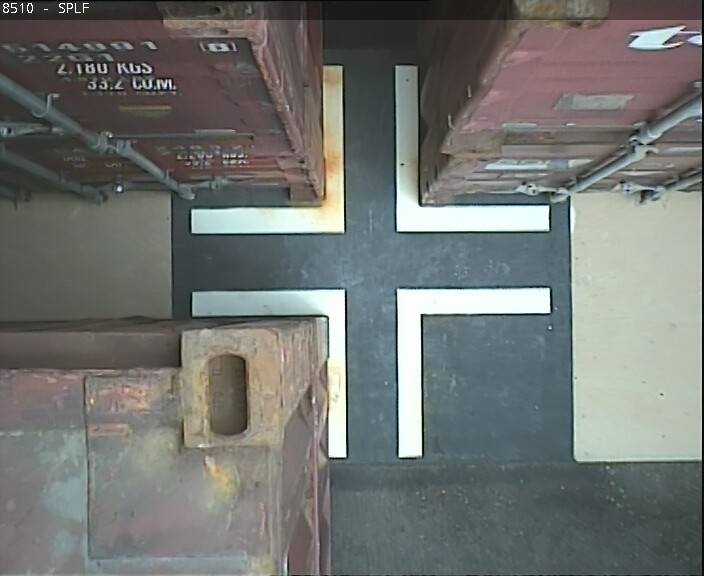groundmarker_1: (190, 69, 552, 235), (192, 290, 554, 456)
